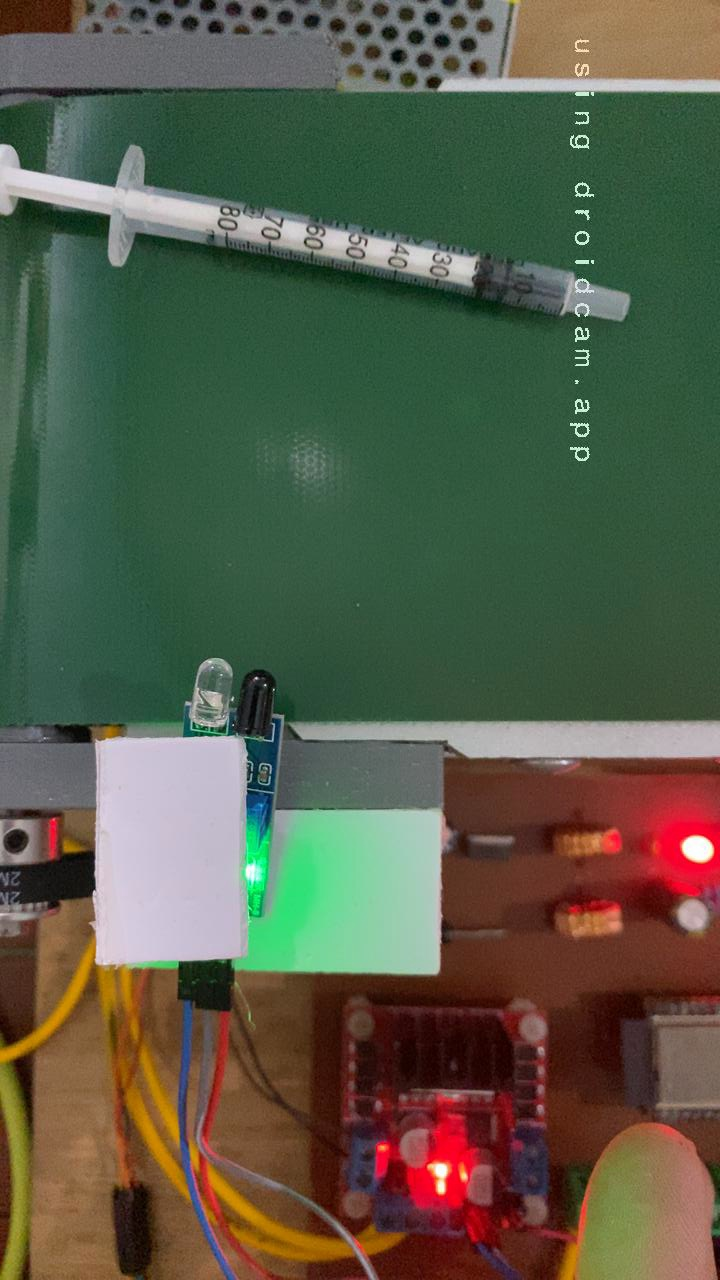syringe: (0, 137, 638, 328)
